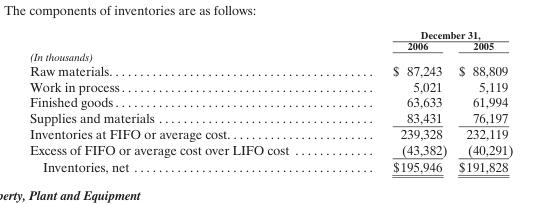table: (29, 28, 512, 173)
table column: (29, 28, 340, 173), (340, 28, 452, 173), (452, 28, 512, 173)
table column header: (29, 28, 512, 51)
table projected row header: (29, 51, 512, 62)
table row: (29, 62, 512, 78), (29, 93, 512, 109), (29, 109, 512, 125), (29, 125, 512, 141), (29, 141, 512, 157), (29, 157, 512, 173), (29, 78, 512, 93), (29, 28, 512, 40), (29, 40, 512, 51), (29, 51, 512, 62)
table spanning cell: (340, 28, 512, 40)
